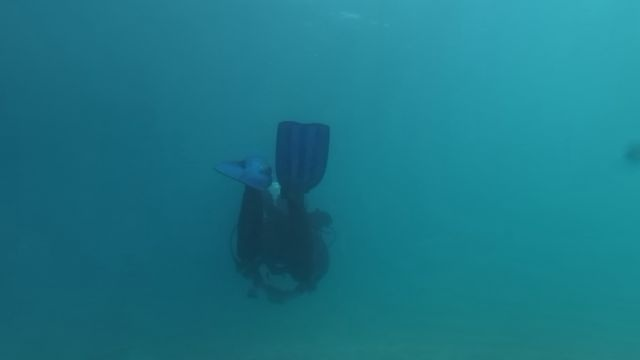Diver: (210, 121, 339, 311)
Hand: (275, 286, 294, 310), (260, 284, 277, 304)
